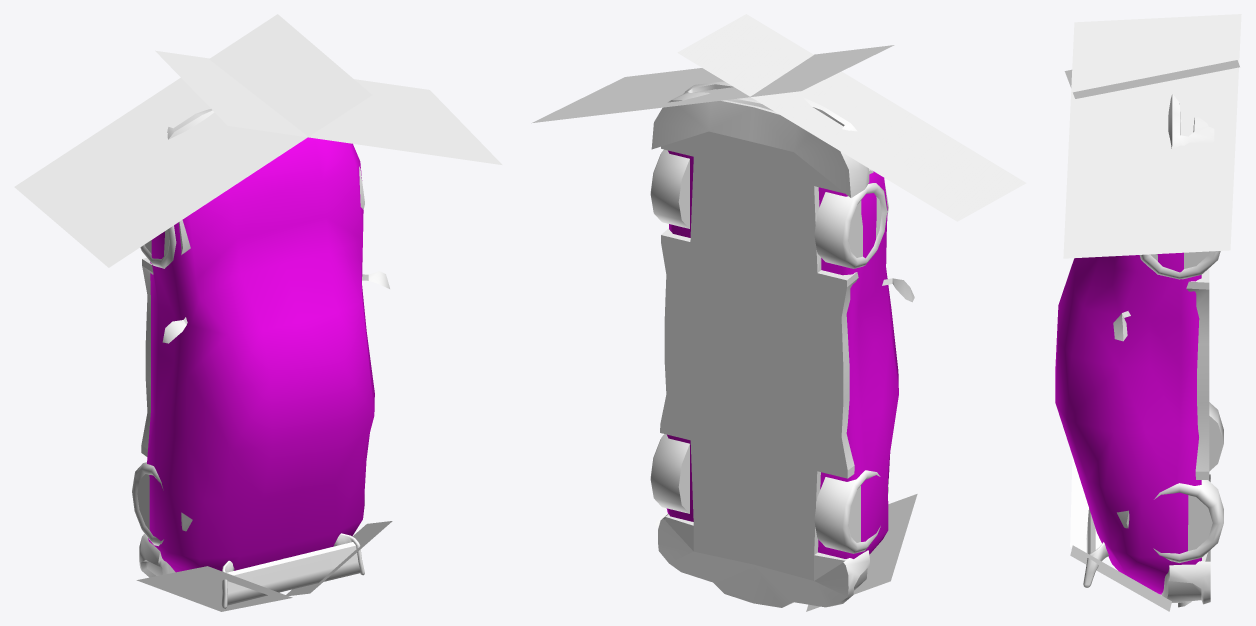
Rendered from Eclipse.glb.
3 views of the same model, side by side, from view 1: azimuth 30°, elevation 25°; view 2: azimuth 150°, elevation 25°; view 3: azimuth 270°, elevation 25° (orthographic). The views are drawn at different scales.
Parts seen in each view (by area): view 1: EclipseProxy, EclipseFrontLights, EclipseSpoiler1, EclipseRearLights, Eclipse, EclipseWheel_LB, EclipseRearBumper2, EclipseWheel_LF; view 2: Eclipse, EclipseFrontLights, EclipseProxy, EclipseFrontBumper2, EclipseRearBumper2, EclipseWheel_LF, EclipseWheel_LB, EclipseWheel_RF, EclipseWheel_RB, EclipseRearLights; view 3: EclipseFrontLights, EclipseProxy, Eclipse, EclipseWheel_RB, EclipseRearLights, EclipseRearBumper2, EclipseWheel_RF, EclipseFrontBumper2, EclipseSpoiler1, EclipseWheel_LB.
Part boxes in pixels (<box>): EclipseProxy: <box>147,137,374,572</box>; EclipseFrontLights: <box>14,14,502,267</box>; EclipseSpoiler1: <box>221,533,364,608</box>; EclipseRearLights: <box>136,521,392,611</box>; Eclipse: <box>141,166,389,558</box>; EclipseWheel_LB: <box>132,462,163,546</box>; EclipseRearBumper2: <box>139,534,175,577</box>; EclipseWheel_LF: <box>140,225,176,268</box>; Eclipse: <box>660,131,914,580</box>; EclipseFrontLights: <box>531,14,1026,221</box>; EclipseProxy: <box>666,150,898,558</box>; EclipseFrontBumper2: <box>651,81,869,197</box>; EclipseRearBumper2: <box>658,513,869,607</box>; EclipseWheel_LF: <box>814,183,887,268</box>; EclipseWheel_LB: <box>814,470,880,553</box>; EclipseWheel_RF: <box>650,149,689,228</box>; EclipseWheel_RB: <box>650,434,689,513</box>; EclipseRearLights: <box>655,494,917,611</box>; EclipseFrontLights: <box>1063,14,1241,258</box>; EclipseProxy: <box>1055,252,1201,594</box>; Eclipse: <box>1113,268,1209,561</box>; EclipseWheel_RB: <box>1153,480,1223,562</box>; EclipseRearLights: <box>1070,456,1171,611</box>; EclipseRearBumper2: <box>1161,474,1210,607</box>; EclipseWheel_RF: <box>1139,251,1220,279</box>; EclipseFrontBumper2: <box>1168,94,1214,149</box>; EclipseSpoiler1: <box>1083,508,1108,587</box>; EclipseWheel_LB: <box>1209,402,1223,471</box>.
Bounding box in the file's own units: 3.93 × 4.97 × 1.5.
